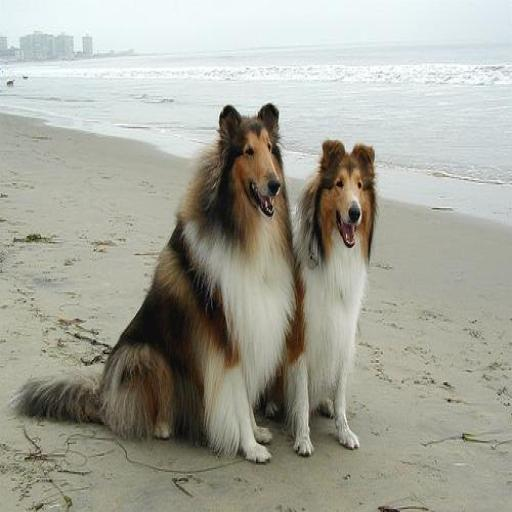dog_face: (214, 98, 282, 224), (319, 140, 377, 254)
